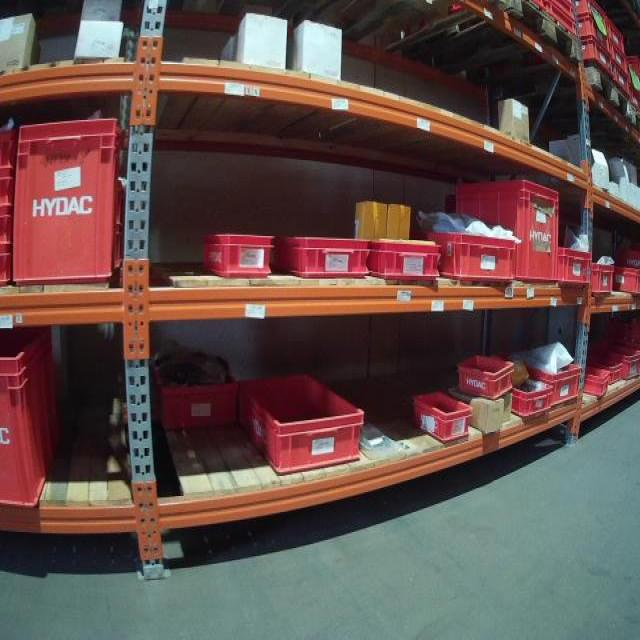pallet: (362, 2, 585, 90), (446, 63, 634, 127), (269, 3, 511, 52), (633, 106, 638, 141)
small_load_carrier: (12, 115, 127, 284), (239, 361, 365, 473), (454, 175, 561, 290), (1, 320, 62, 510), (151, 347, 246, 435), (424, 227, 518, 283), (274, 235, 370, 281), (520, 350, 583, 412), (367, 237, 446, 282), (199, 234, 273, 278), (412, 389, 471, 441), (454, 357, 515, 399), (510, 373, 555, 421), (604, 321, 639, 376), (584, 348, 626, 387), (558, 241, 591, 289), (576, 42, 614, 82), (606, 338, 638, 381), (577, 15, 612, 53), (583, 363, 611, 406), (553, 10, 581, 46), (590, 261, 616, 298), (572, 4, 610, 27), (616, 264, 640, 299), (615, 241, 639, 275), (611, 16, 628, 58), (2, 127, 18, 171), (610, 68, 627, 106), (1, 168, 15, 213), (2, 214, 18, 249), (614, 49, 631, 79), (2, 251, 16, 286), (554, 0, 576, 19), (536, 1, 551, 25), (631, 88, 637, 115)
